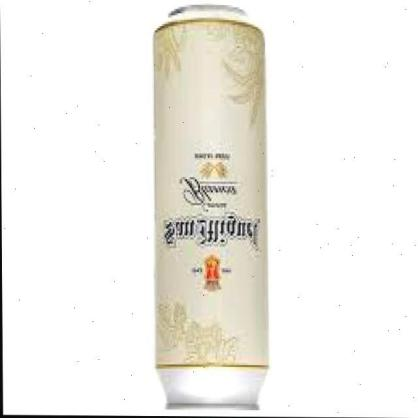can: (148, 2, 274, 413)
